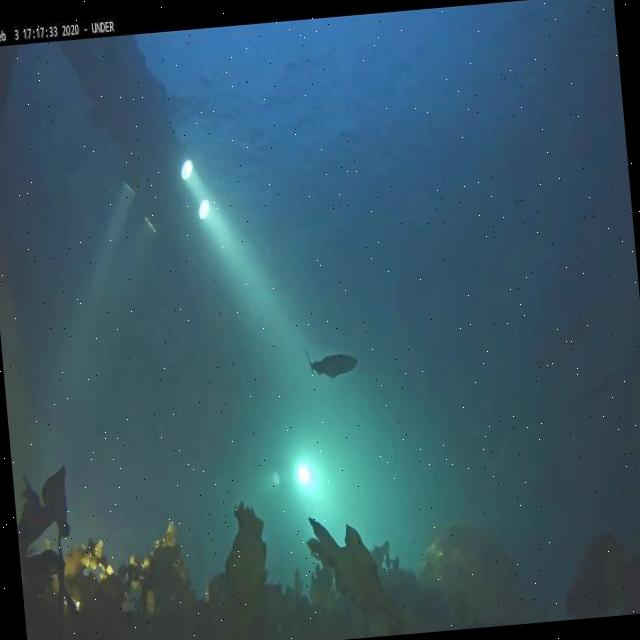fish: (304, 346, 358, 382)
